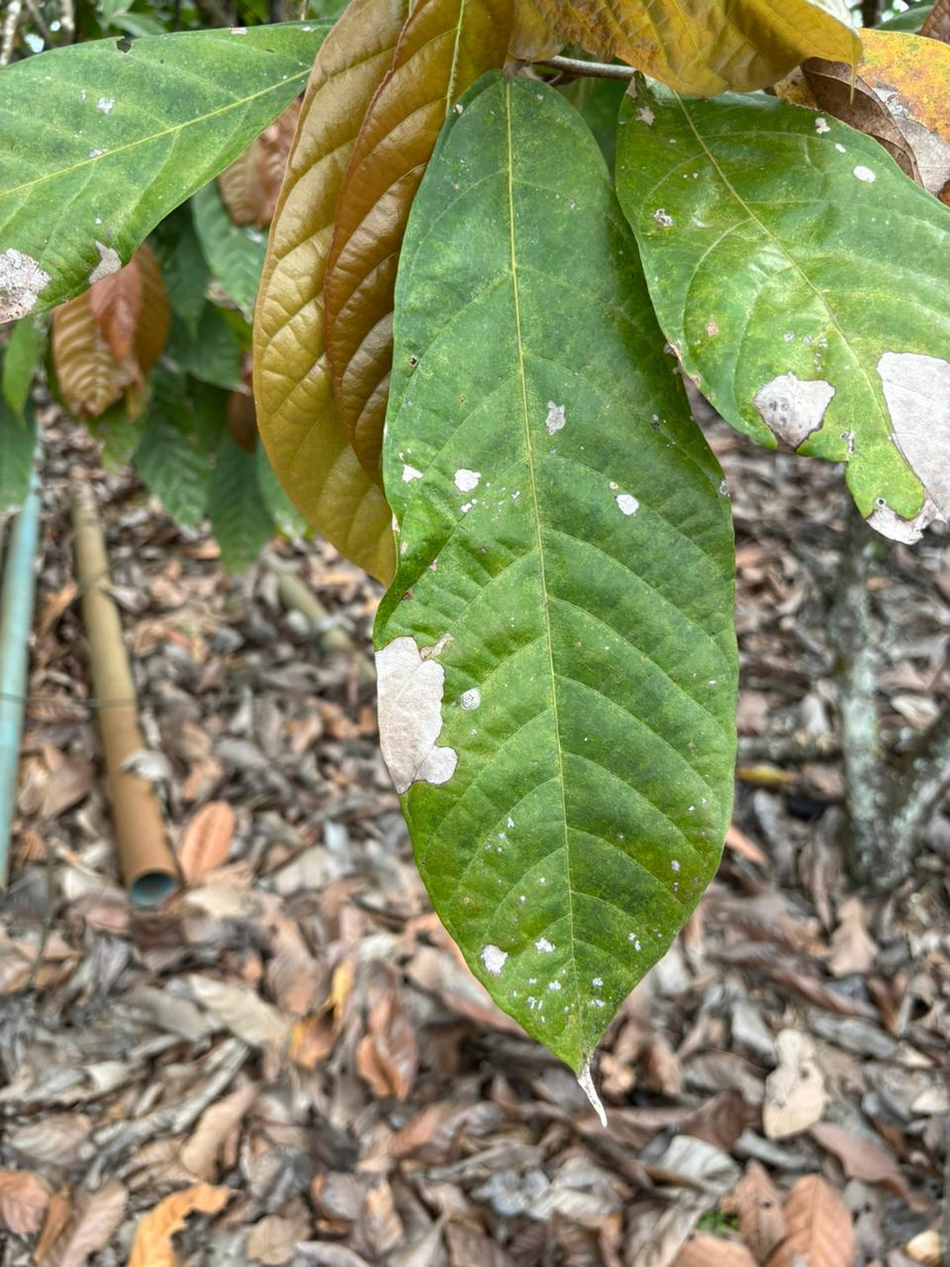deficiencia_potasio: (374, 71, 737, 1125), (617, 80, 949, 538)
